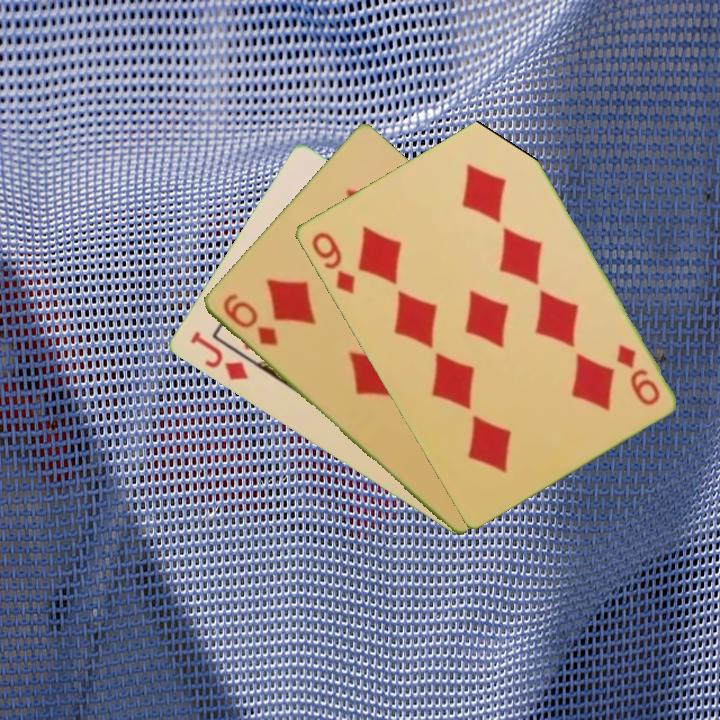6d: (218, 290, 281, 349)
9d: (307, 228, 358, 298), (612, 340, 662, 409)
Jd: (186, 328, 251, 384)
